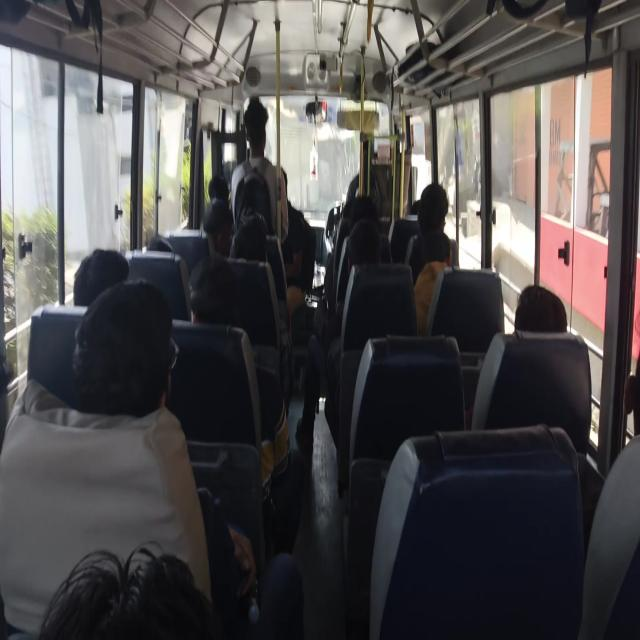person: (0, 277, 258, 638), (187, 255, 305, 555), (295, 194, 381, 455), (470, 284, 592, 454), (37, 541, 217, 639), (230, 97, 288, 243), (280, 166, 316, 314), (406, 182, 456, 284), (413, 230, 452, 335), (72, 247, 130, 306), (514, 283, 568, 333), (202, 198, 235, 258), (417, 182, 448, 235)
